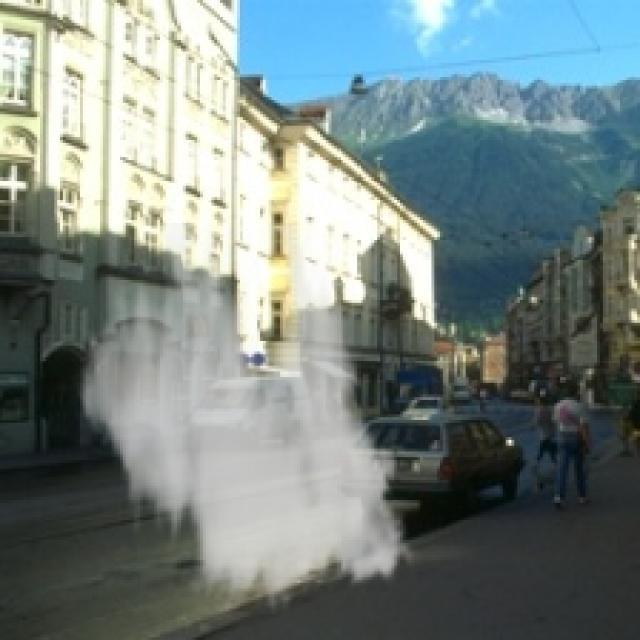Smoke: (68, 222, 423, 614)
